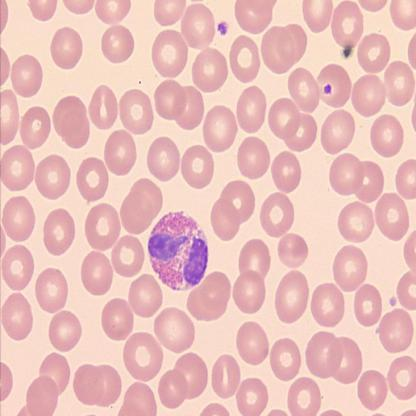Eosinophil: (149, 210, 207, 289)
